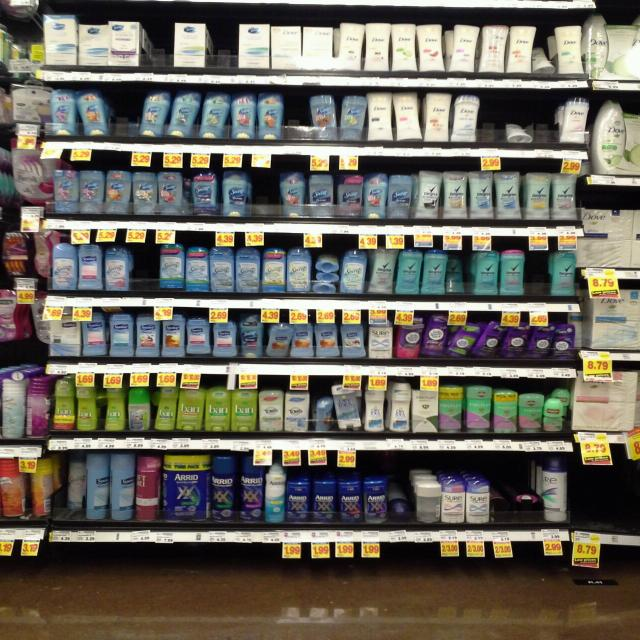void: (574, 456, 636, 533), (496, 458, 538, 530)
